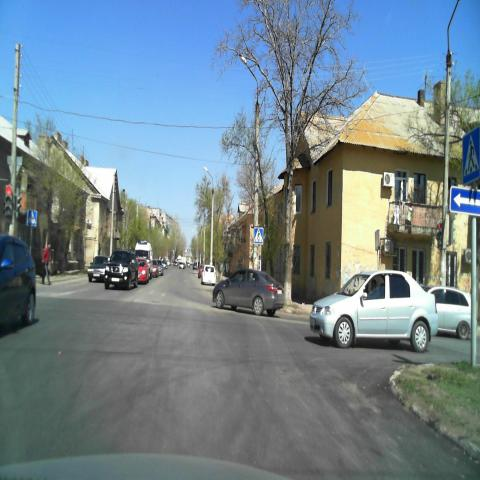5_7_2: (450, 186, 480, 216)
